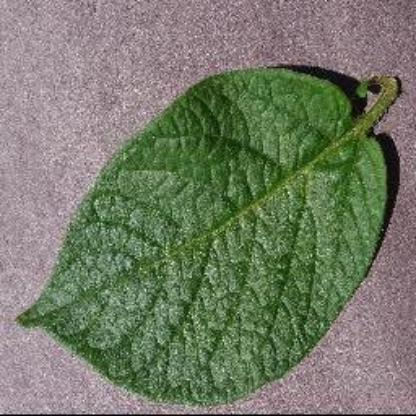Healthy-plant: (14, 65, 408, 407)
